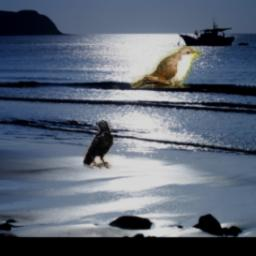Crow: (82, 120, 113, 169)
Cuckoo: (131, 47, 201, 89)
